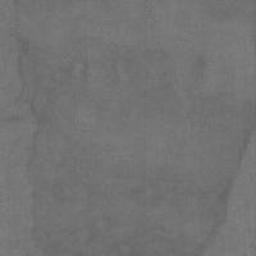Water spot: (13, 0, 256, 256), (200, 0, 256, 41), (1, 114, 26, 123)
